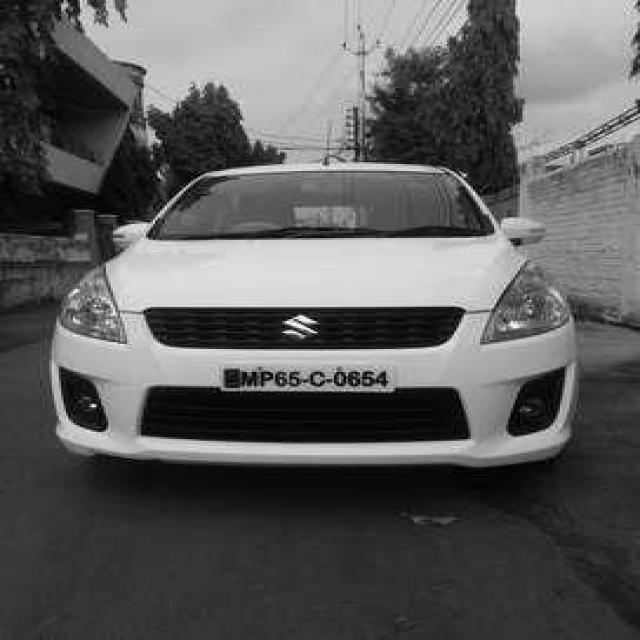car: (47, 162, 586, 499)
license-plate: (223, 359, 393, 396)
